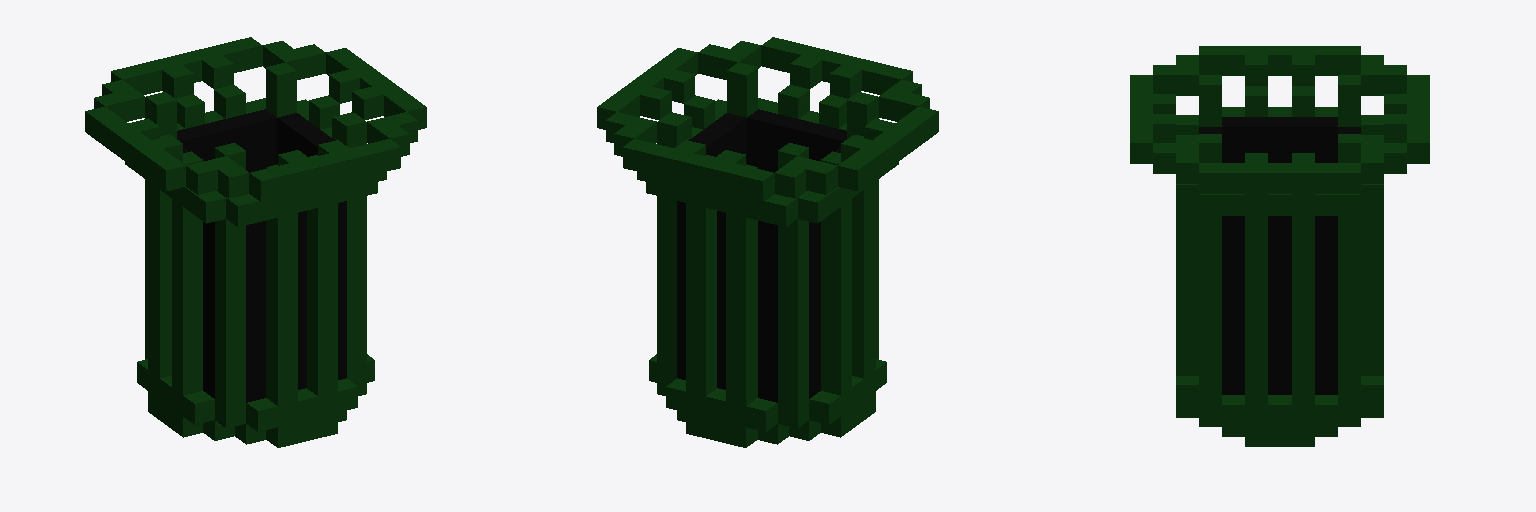
3 renders of one model, left to right at view 1: azimuth 30°, elevation 25°; view 2: azimuth 150°, elevation 25°; view 3: azimuth 270°, elevation 25°, orthographic.
Visible parts, largest first — view 1: object 1; view 2: object 1; view 3: object 1.
Boxes of the visible parts, <box> form: object 1: <box>85,37,426,447</box>; object 1: <box>597,37,938,447</box>; object 1: <box>1130,46,1429,446</box>.
Size of the model in its own units: 1.3 by 1.4 by 1.3.
Materials: 1 (1 with a texture image).